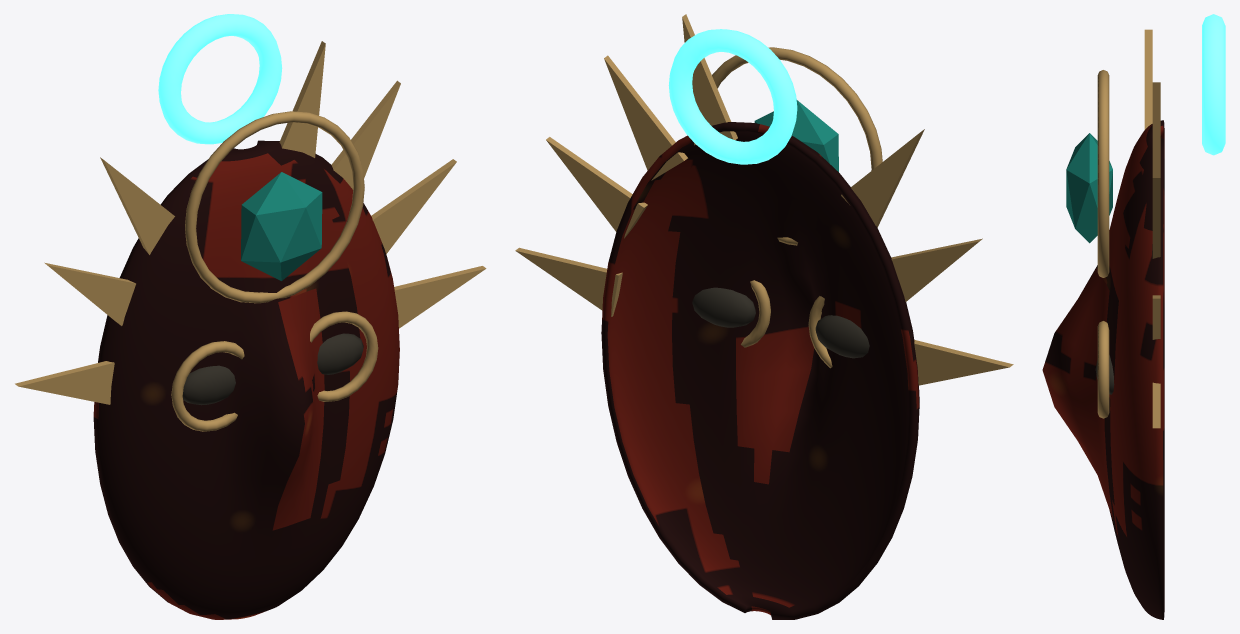
File: sun_mask_secret_pattern_cinnabar.fbx
3 views of the same model, side by side, from view 1: azimuth 30°, elevation 25°; view 2: azimuth 150°, elevation 25°; view 3: azimuth 270°, elevation 25° (orthographic). The views are drawn at different scales.
Visible parts, largest first — view 1: Reviewed_sun_mask_secret_Body.005, TH10_SunMask_Handle.009; view 2: Reviewed_sun_mask_secret_Body.005, TH10_SunMask_Handle.009; view 3: Reviewed_sun_mask_secret_Body.005, TH10_SunMask_Handle.009.
Boxes of the visible parts, x1,y1,x2,y2 form: Reviewed_sun_mask_secret_Body.005: (15, 41, 486, 619); TH10_SunMask_Handle.009: (158, 14, 282, 144); Reviewed_sun_mask_secret_Body.005: (515, 14, 1013, 619); TH10_SunMask_Handle.009: (668, 29, 797, 164); Reviewed_sun_mask_secret_Body.005: (1042, 29, 1164, 619); TH10_SunMask_Handle.009: (1202, 14, 1225, 155).
Bounding box in the file's own units: 0.2799 × 0.3295 × 0.093.
Materials: 5 (1 with a texture image).
